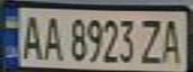2: (103, 16, 121, 64)
3: (118, 16, 139, 64)
8: (63, 14, 87, 62)
9: (84, 15, 106, 63)
A: (157, 15, 187, 65), (39, 11, 66, 61), (18, 11, 45, 61)
Z: (136, 16, 166, 65)
